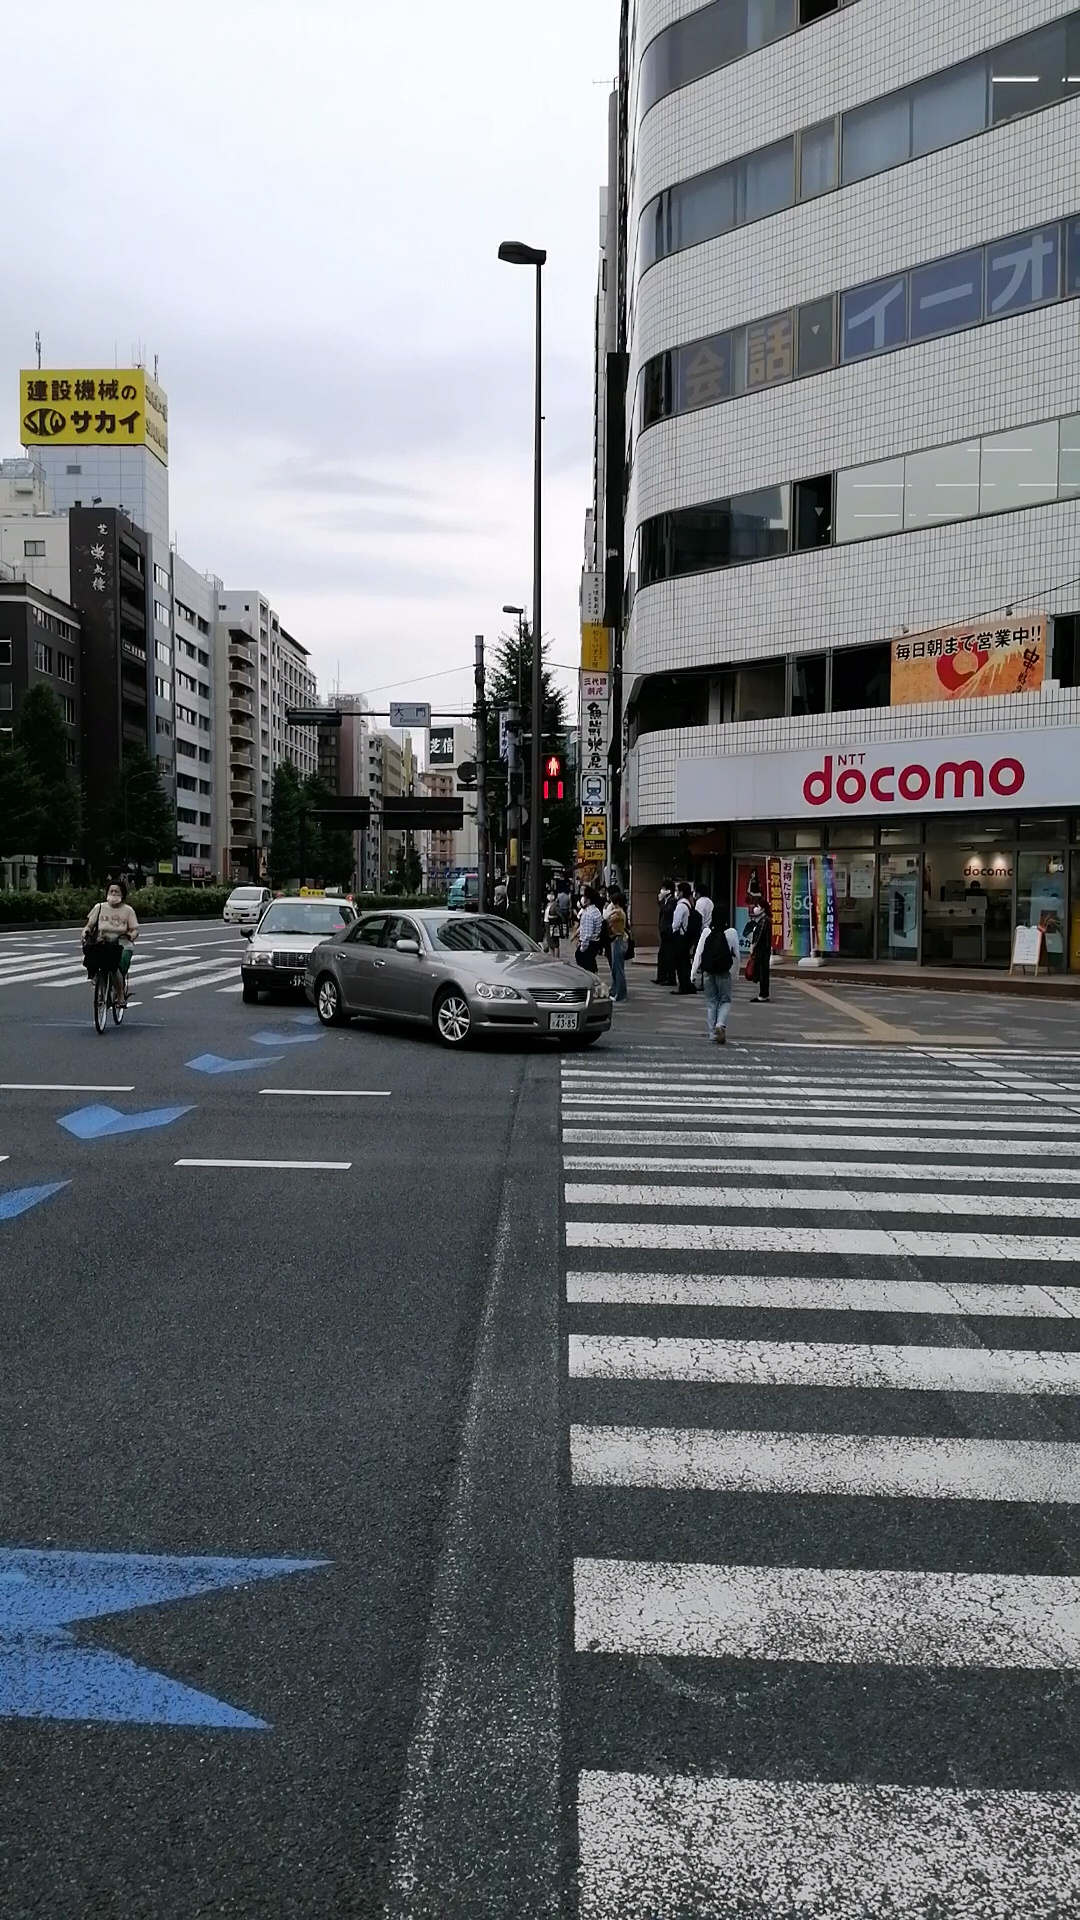red: (538, 748, 566, 804)
